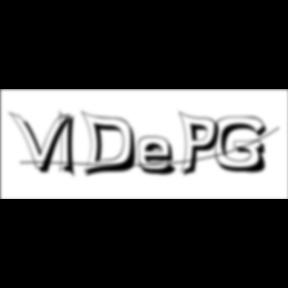D: (80, 110, 144, 180)
G: (214, 116, 274, 176)
P: (178, 110, 225, 180)
V: (9, 110, 76, 176)
e: (138, 135, 184, 178)
l: (60, 108, 83, 182)
